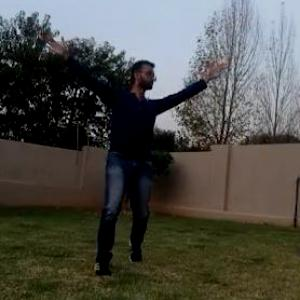takeoff: (49, 33, 228, 273)
